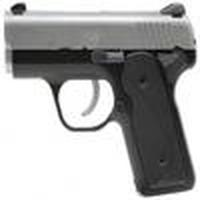gun: (3, 6, 200, 198)
